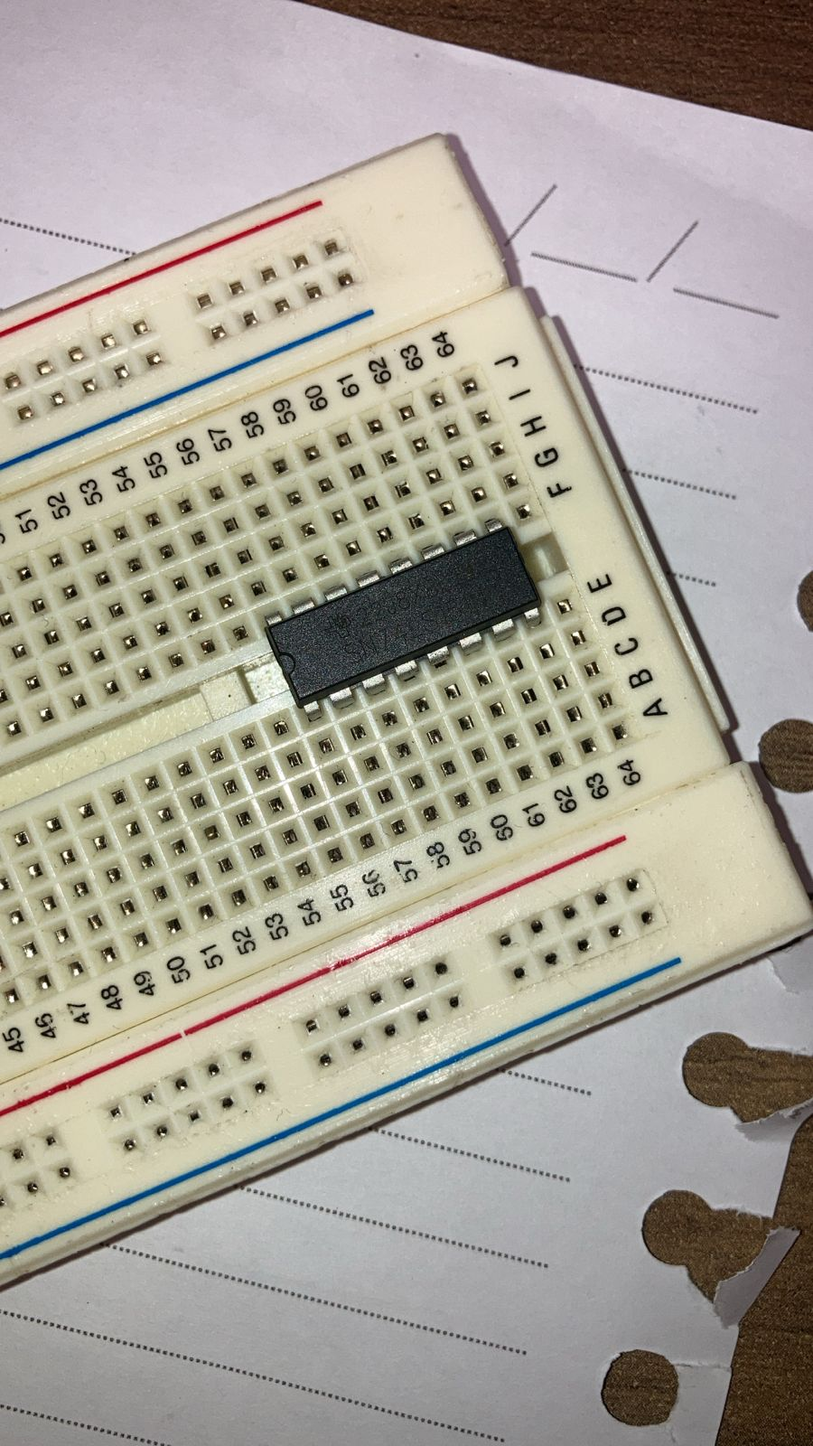IC: (256, 512, 552, 730)
notch: (275, 651, 298, 676)
